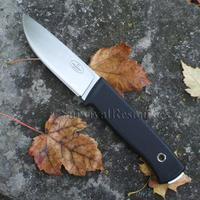knife: (19, 8, 184, 186)
